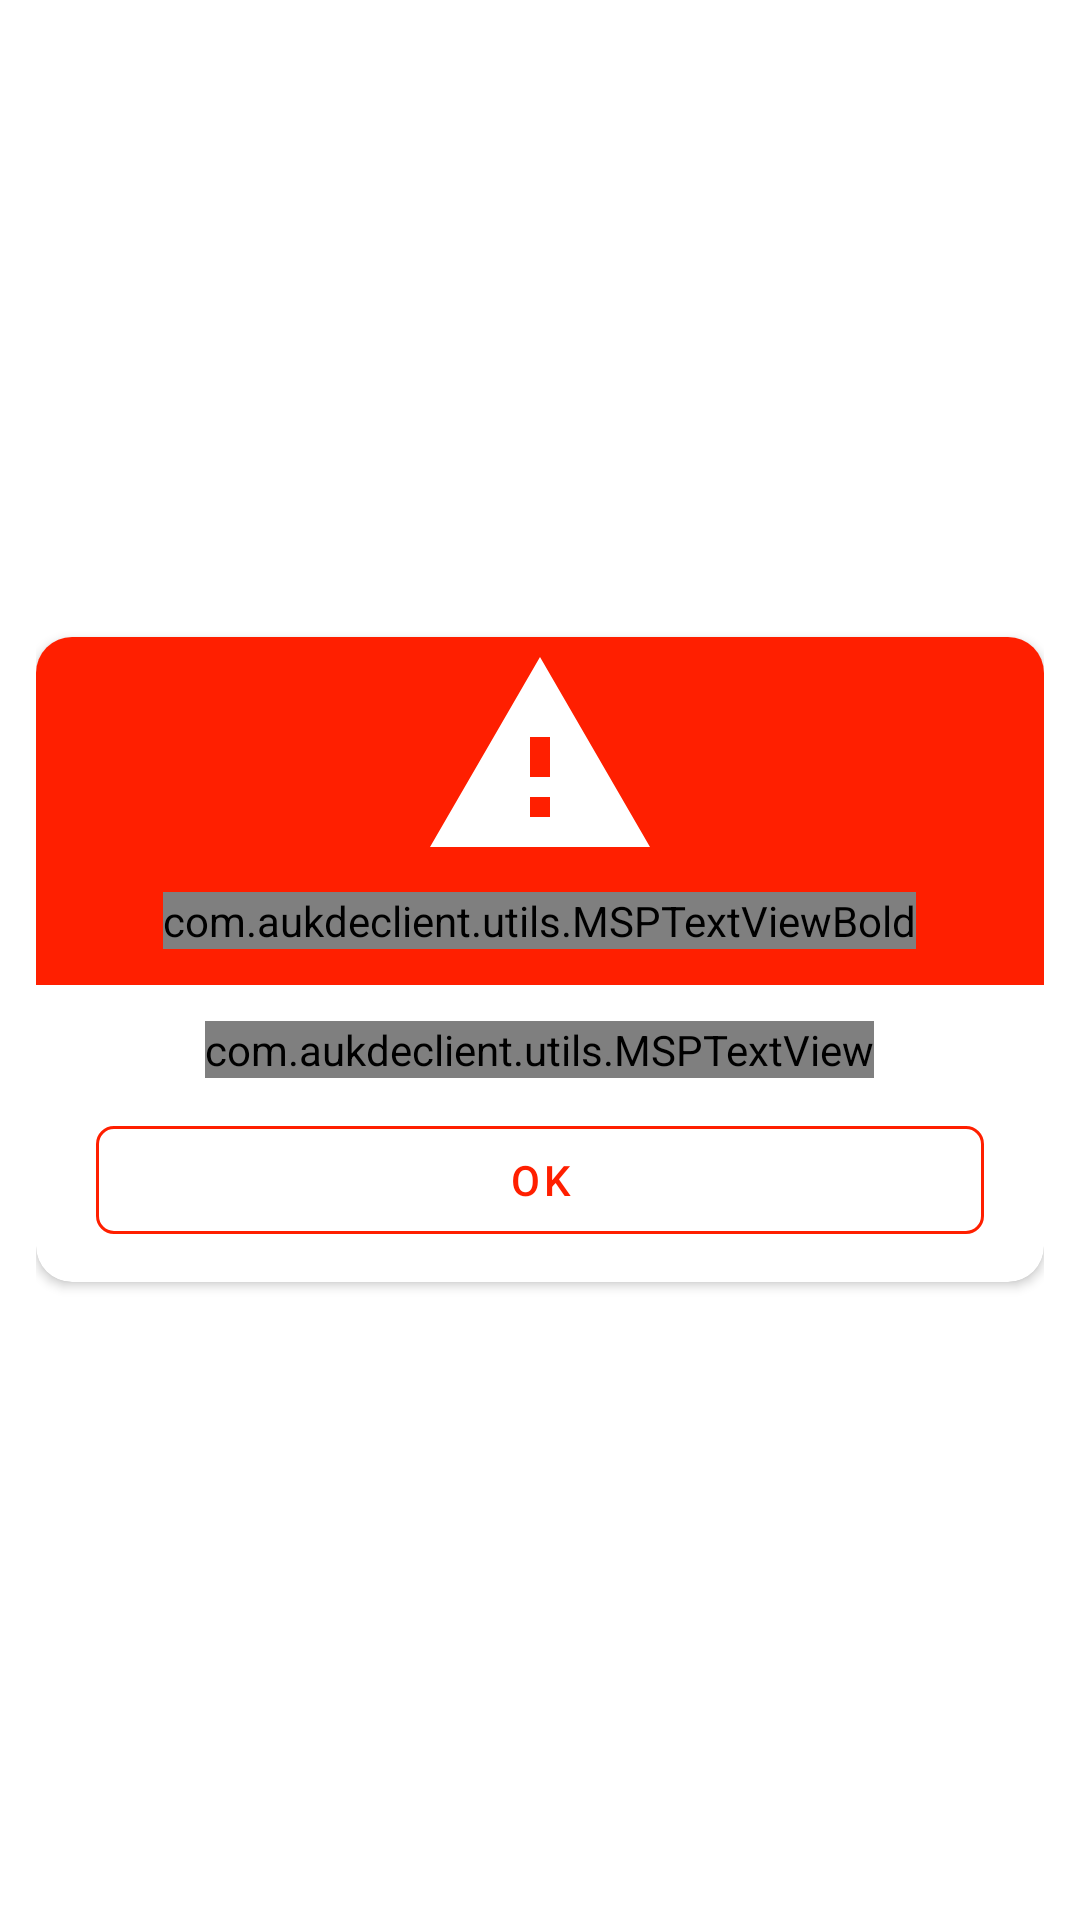

Icon click points for this 1080 × 1920 phone screenshot, format (x,y):
warning: (540,752)
